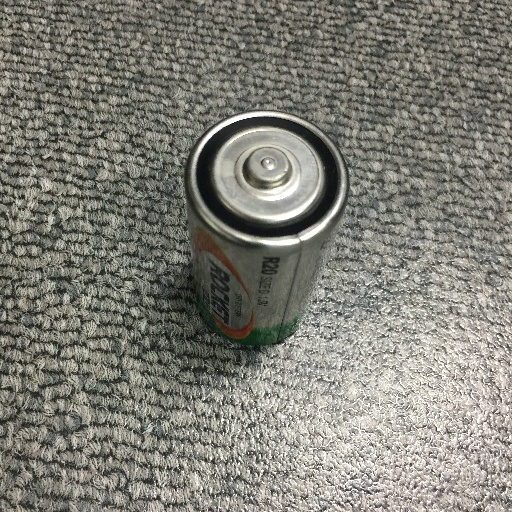Battery_0: (175, 102, 367, 367)
